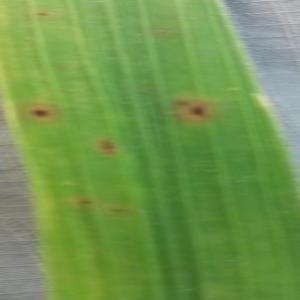Brown_Spot: (23, 102, 58, 124), (92, 134, 122, 159), (181, 101, 212, 121), (107, 203, 134, 219), (168, 94, 192, 110), (75, 196, 98, 209), (32, 8, 53, 20)
